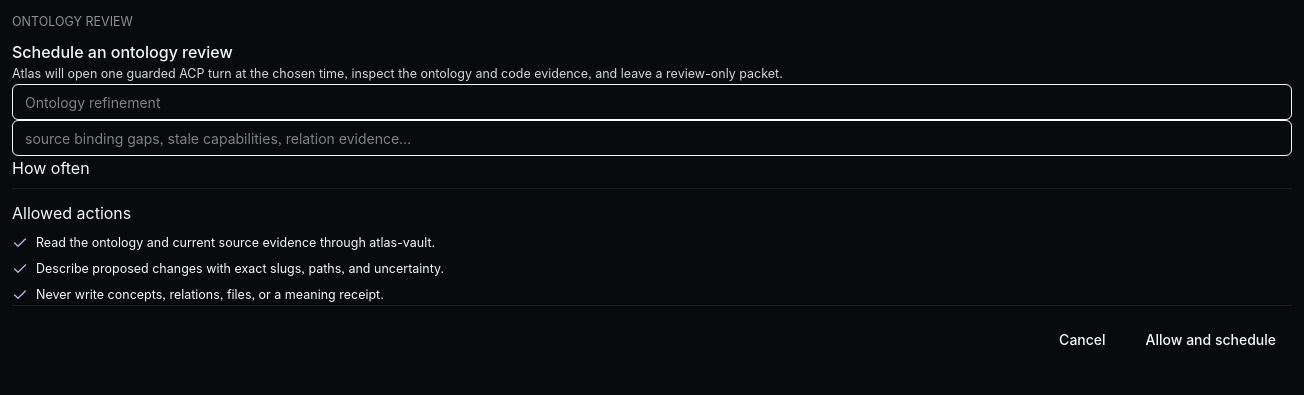
Scenario: the new ontology round sheet › keeps the draft usable when saving rejects
Type "Source gaps" into the field with test id "ontology-automation-name" at (652, 102), box [12,84,1292,120]
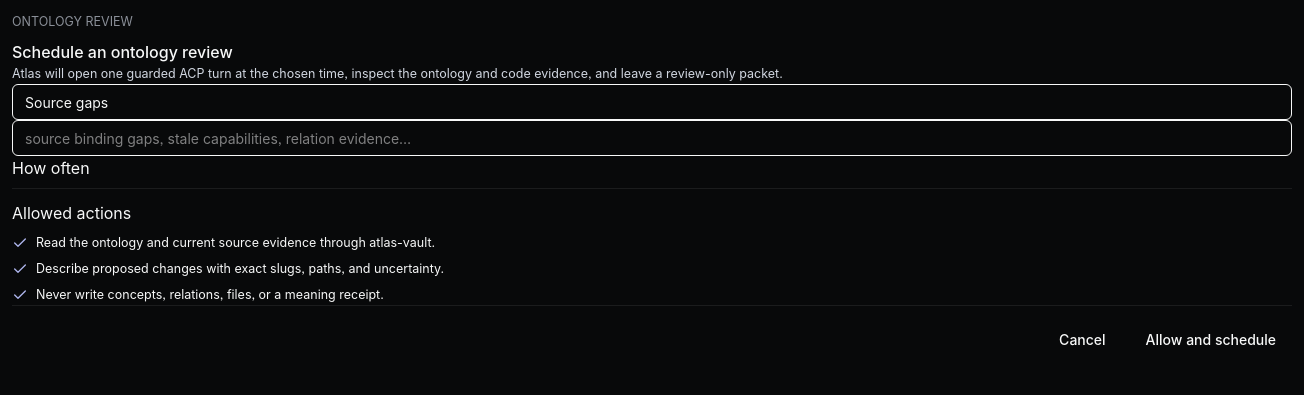
Click the button with test id "ontology-automation-allow" at (1211, 340), box [1130,322,1292,358]
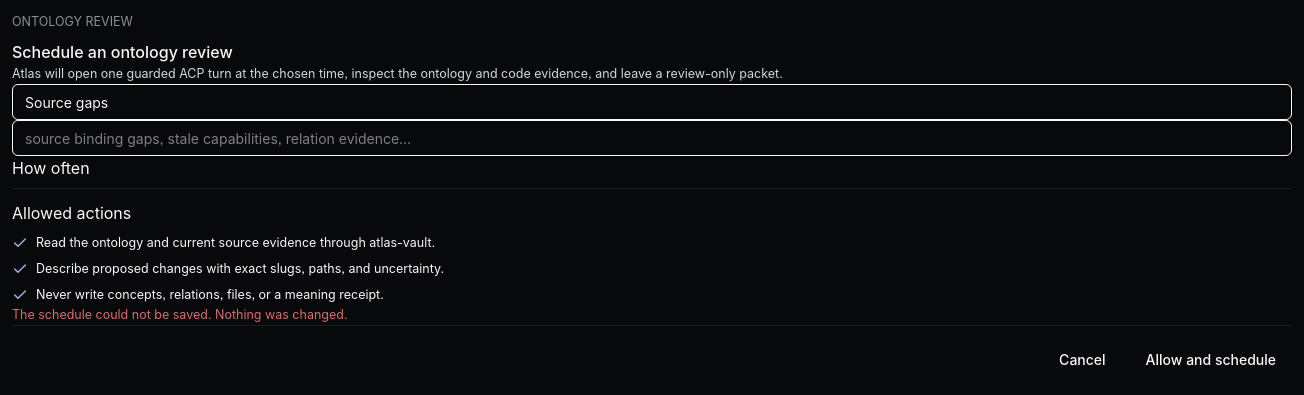
Expected: the button with test id "ontology-automation-allow" is enabled, [1130,342,1292,378]
Expected: the message reads "The schedule could not be saved. Nothing was changed.", [12,307,348,322]
